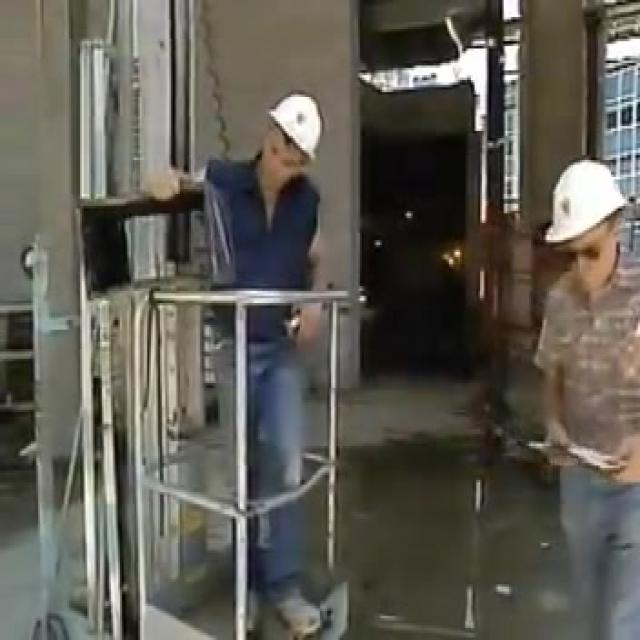Safety-Helmet: (538, 148, 633, 254), (258, 83, 336, 172)
